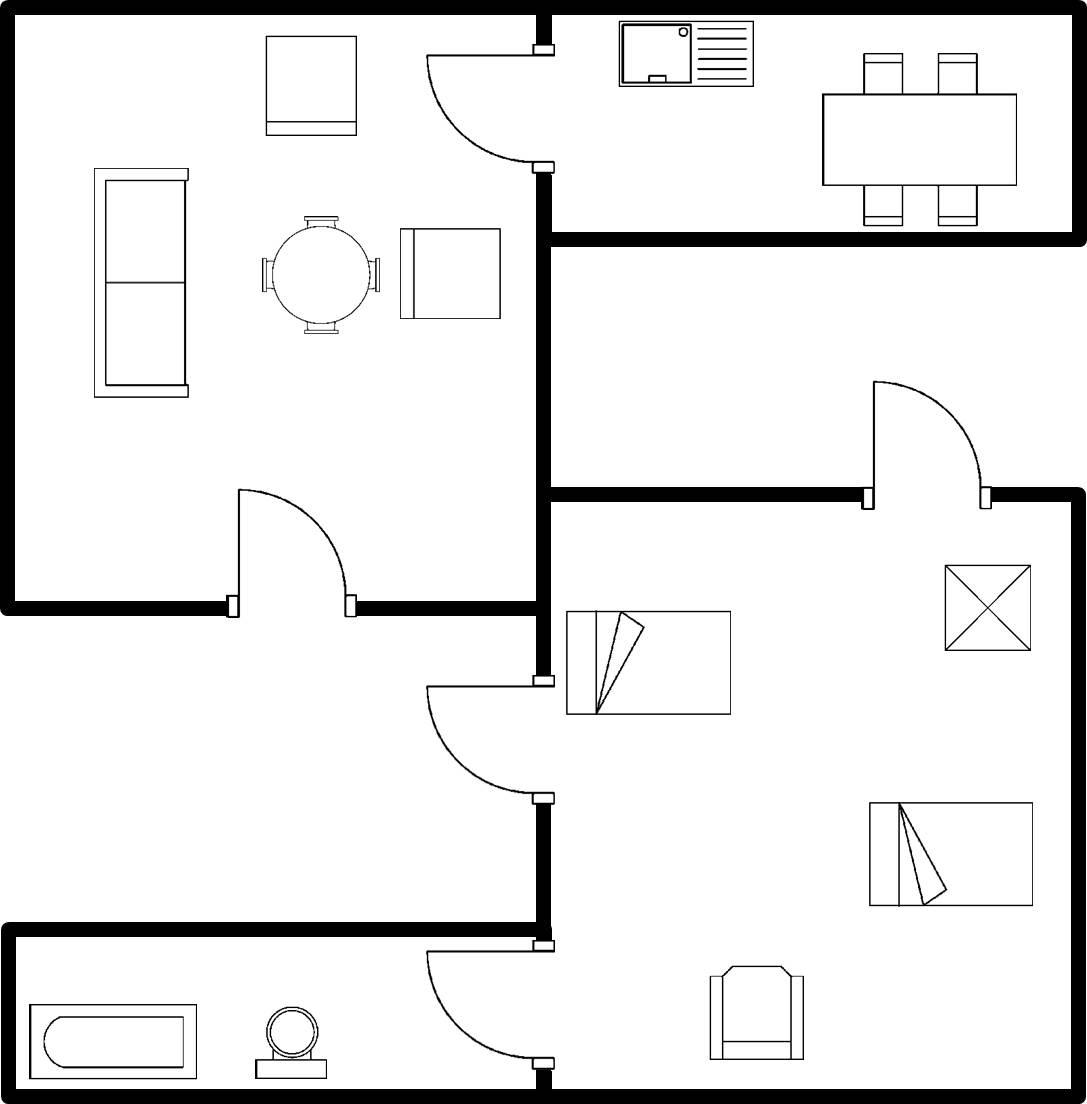bed: (857, 788, 1047, 914), (560, 602, 740, 724)
dining_table: (812, 42, 1024, 234)
round_table: (252, 206, 386, 349)
sink: (607, 13, 770, 100)
sofa: (82, 159, 197, 408)
toilet: (243, 998, 338, 1082)
tub: (22, 996, 205, 1084)
